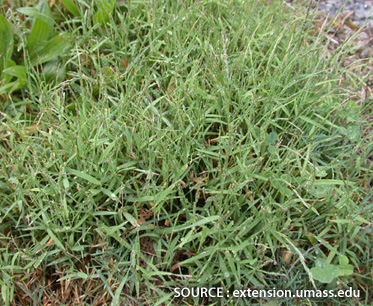crabgrass: (36, 80, 345, 294)
